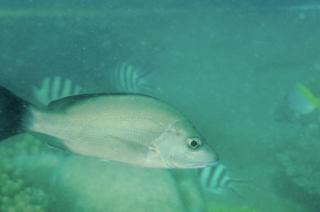Lutjanidae -Snappers-: (0, 80, 222, 171)
